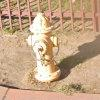a fire hydrant: (26, 15, 64, 84)
